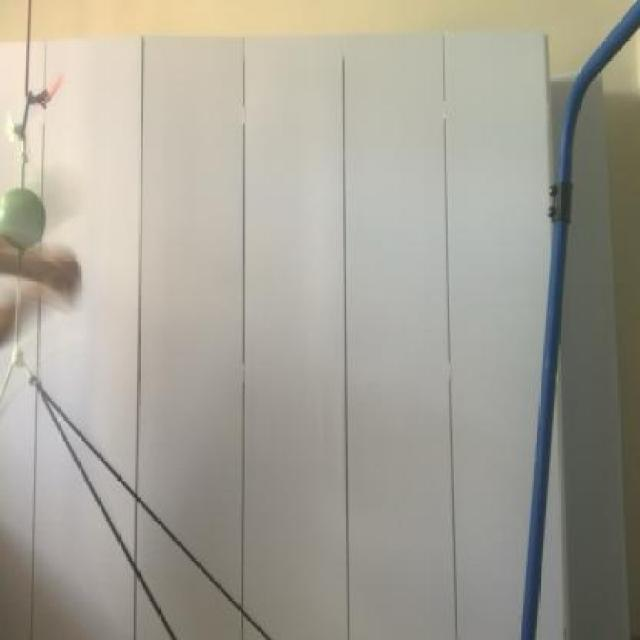baseball: (0, 174, 52, 254)
